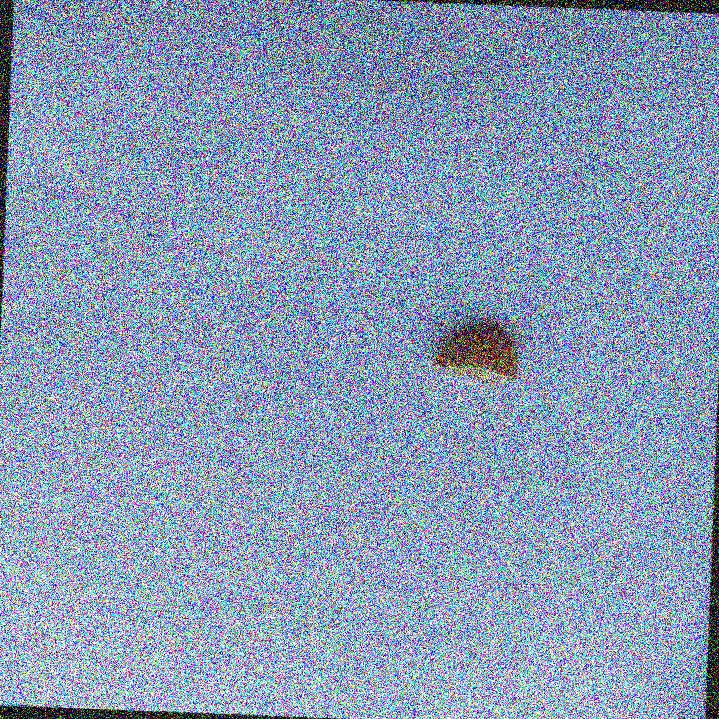grade4: (423, 315, 527, 389)
